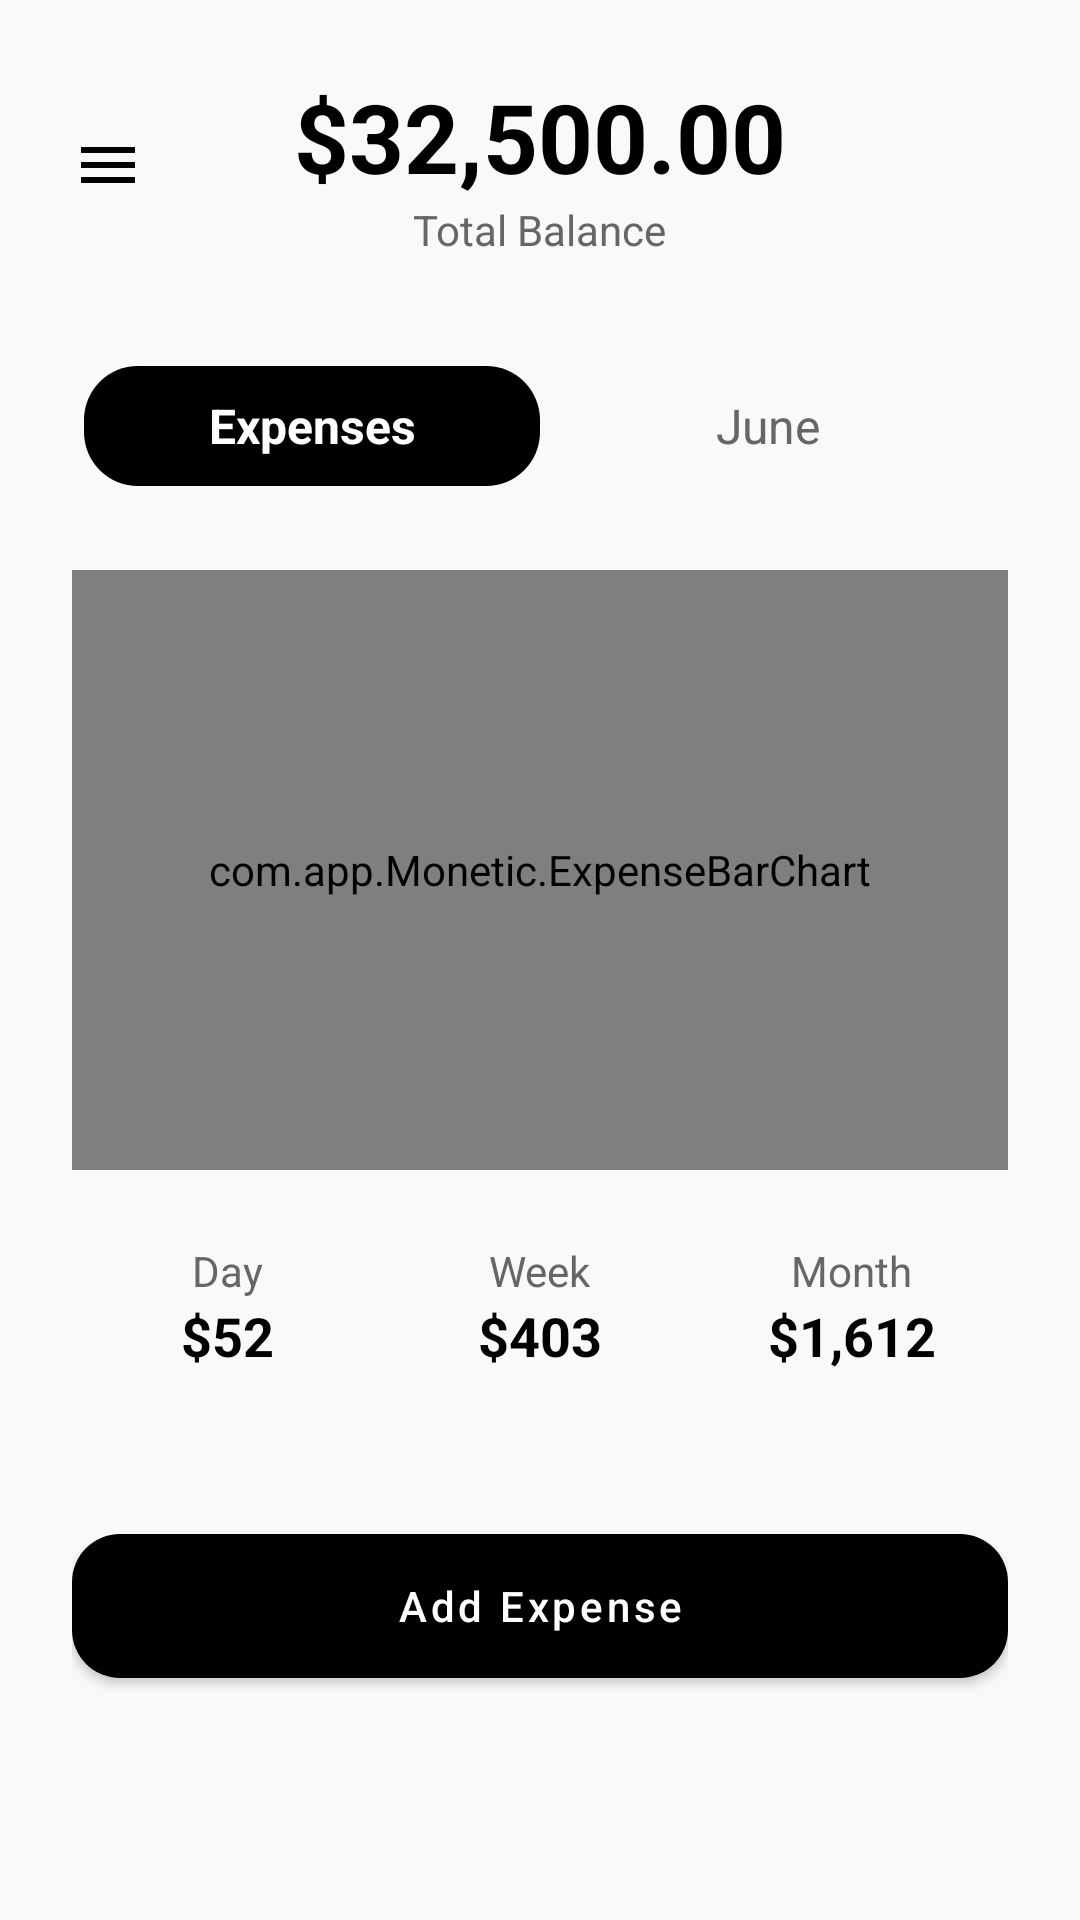

Screen size 1080px x 1920px. Icon name, then its center in pixels as point (x, y):
menu: point (108, 165)
